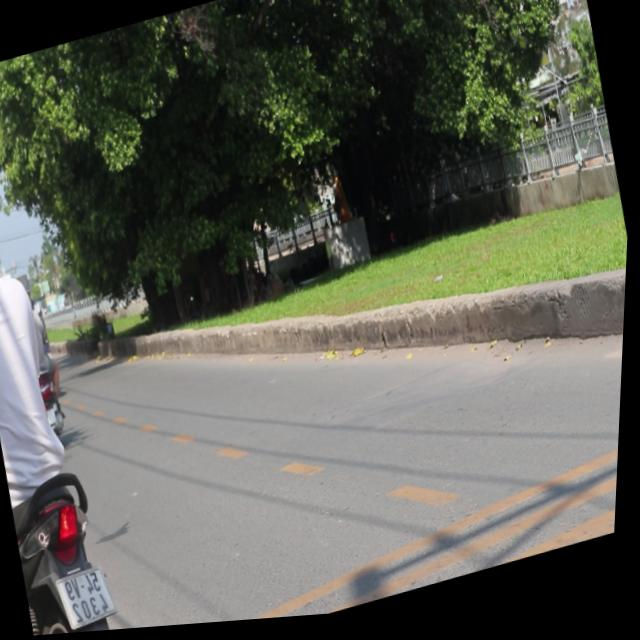licenseplate: (0, 163, 154, 640)
motorcyclist: (0, 185, 12, 285)
nohelmet: (58, 562, 122, 630)
